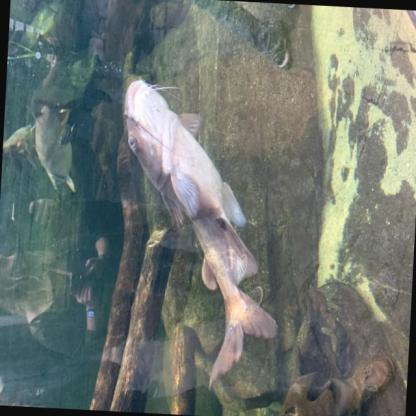fish: (110, 80, 294, 394), (171, 73, 222, 170)
